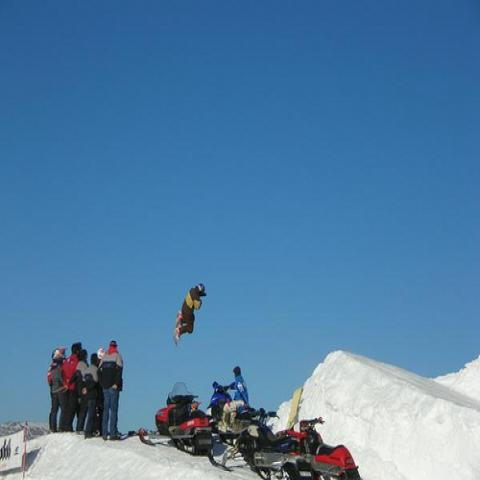motorcycle: (286, 418, 360, 480)
